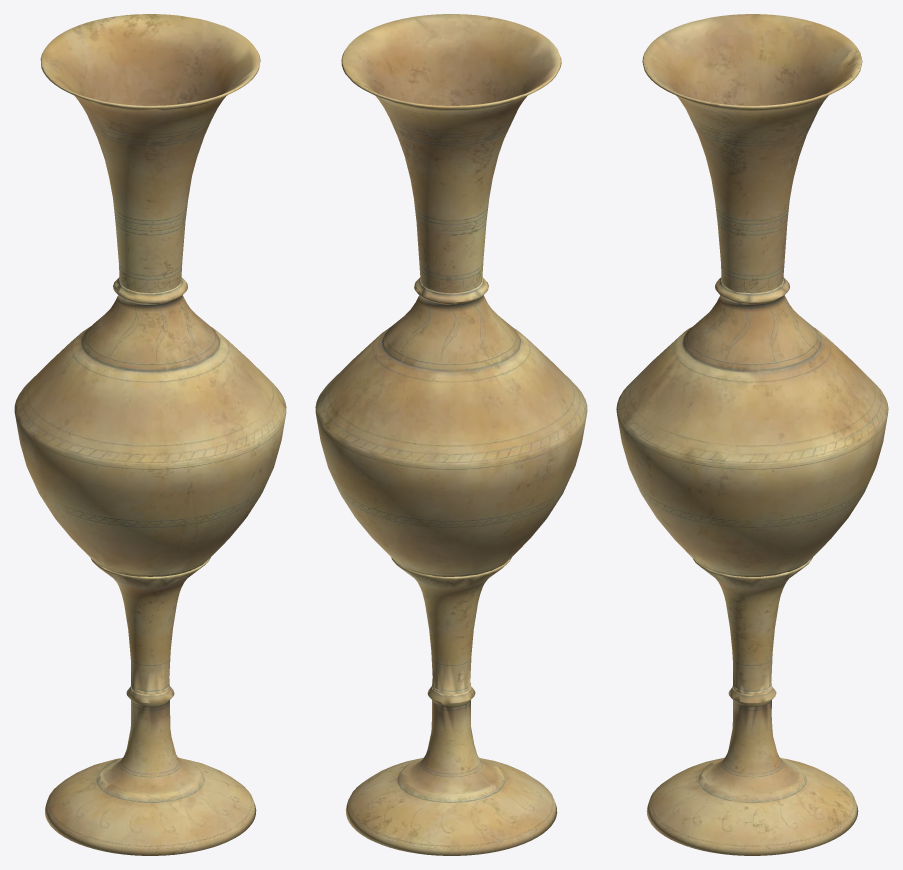
The model's file is brass-vase-01.glb.
The picture shows the model from 3 angles, left to right: view 1: azimuth 30°, elevation 25°; view 2: azimuth 150°, elevation 25°; view 3: azimuth 270°, elevation 25°; orthographic projection.
Visible parts, largest first — view 1: brass_vase_01; view 2: brass_vase_01; view 3: brass_vase_01.
Boxes of the visible parts, x1,y1,x2,y2 form: brass_vase_01: (14, 14, 286, 855); brass_vase_01: (315, 14, 587, 855); brass_vase_01: (616, 14, 888, 855).
Bounding box in the file's own units: 0.2272 × 0.6925 × 0.2272.
1 material, 1 textured.
